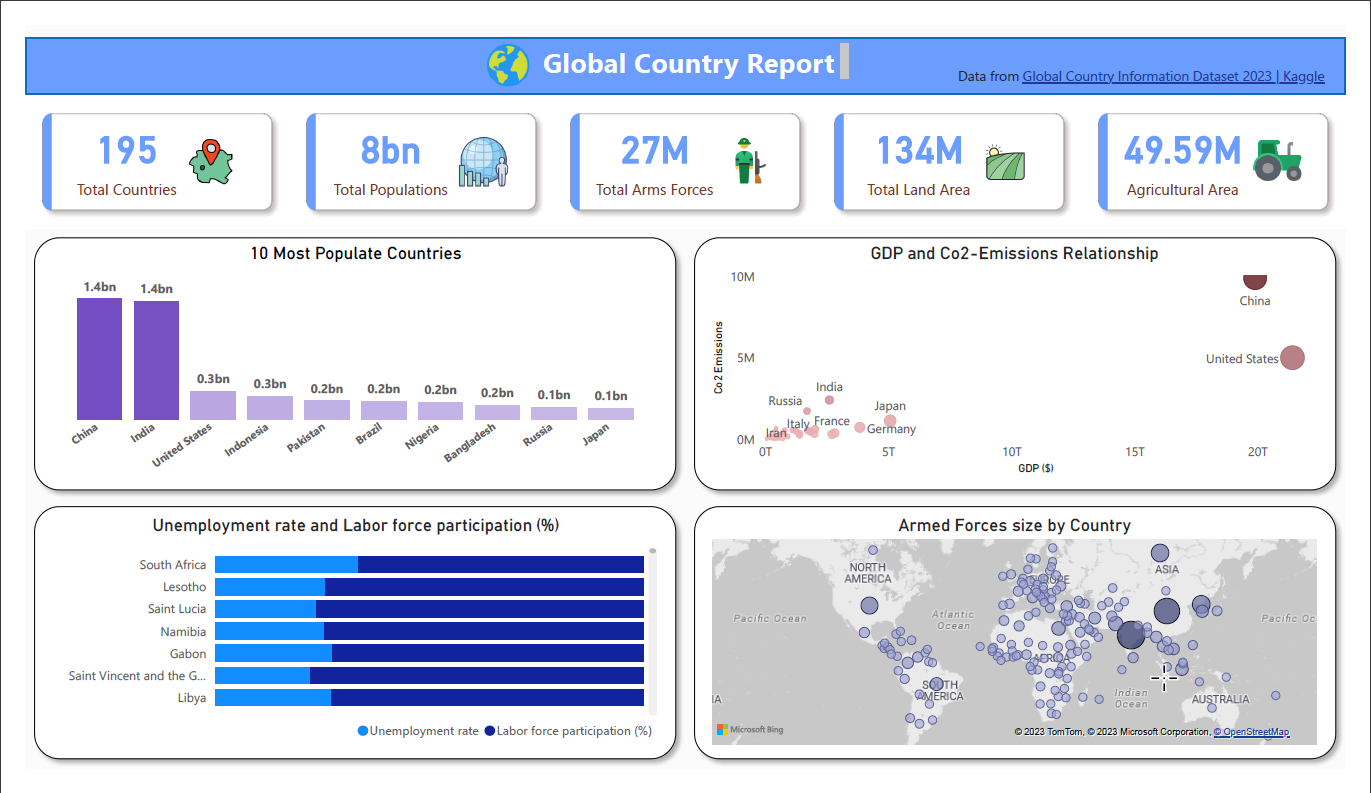

Layout of this report page (visuals, bound fields, positions):
{"tool":"powerbi","page":{"name":"Page 1","canvas":[1280,720],"ordinal":0},"visuals":[{"type":"cardVisual","fields":{"Data":["world-data-2023.Total Countries","world-data-2023.Total Populations","world-data-2023.Total Arms Forces Size","world-data-2023.Total Land Area","world-data-2023.Total Agricultural Land"]},"box":[0,68.1,1280,128.6],"z":0},{"type":"shape","box":[0,10.6,1280,56],"z":1000},{"type":"textbox","box":[490.6,12,311.7,45.4],"z":2000,"group":"g1"},{"type":"textbox","box":[898.7,34.8,381.3,27.2],"z":2000},{"type":"group","id":"g1","title":"Group 1","box":[432.7,9.1,369.6,59],"z":3000},{"type":"image","box":[432.7,9.1,69.6,59],"z":3001,"group":"g1"},{"type":"shape","box":[0,196.7,640,263.3],"z":3001},{"type":"clusteredColumnChart","title":"10 Most Populate Countries","fields":{"Y":["Sum(world-data-2023.Population)"],"Category":["world-data-2023.Country"]},"box":[22.7,210.3,594.6,230],"z":3002},{"type":"shape","box":[640,196.7,640,263.3],"z":3003},{"type":"scatterChart","title":"GDP and Co2-Emissions Relationship","fields":{"Category":["world-data-2023.Country"],"Y":["Sum(world-data-2023.Co2-Emissions)"],"X":["Sum(world-data-2023.GDP ($))"],"Size":["Sum(world-data-2023.GDP ($))"]},"box":[661.2,210.3,596.1,230],"z":3004},{"type":"shape","box":[0,456.9,640,263.3],"z":3005},{"type":"hundredPercentStackedBarChart","title":"Unemployment rate and Labor force participation (%)","fields":{"Category":["world-data-2023.Country"],"Y":["Sum(world-data-2023.Unemployment rate)","Sum(world-data-2023.Population: Labor force participation (%))"]},"box":[22.7,473.6,594.6,228.5],"z":3006},{"type":"shape","box":[640,456.9,640,263.3],"z":3007},{"type":"map","title":"Armed Forces size by Country","fields":{"Category":["world-data-2023.Country"],"Size":["Sum(world-data-2023.Armed Forces size)"]},"box":[661.2,473.6,596.1,228.5],"z":3008}]}

Visuals, with their boxes in screenshot pixels (x1, y1, x2, y2), scaled from the page's 1280x720 canvas onto the 1371x793 screenshot:
cardVisual - world-data-2023.Total Countries x world-data-2023.Total Populations: 0:75:1370:217
shape: 0:12:1370:73
textbox: 525:13:859:63
textbox: 963:38:1370:68
"Group 1" group: 463:10:859:75
image: 463:10:538:75
shape: 0:217:686:507
"10 Most Populate Countries" clusteredColumnChart: 24:232:661:485
shape: 686:217:1370:507
"GDP and Co2-Emissions Relationship" scatterChart: 708:232:1347:485
shape: 0:503:686:792
"Unemployment rate and Labor force participation (%)" hundredPercentStackedBarChart: 24:522:661:773
shape: 686:503:1370:792
"Armed Forces size by Country" map: 708:522:1347:773
